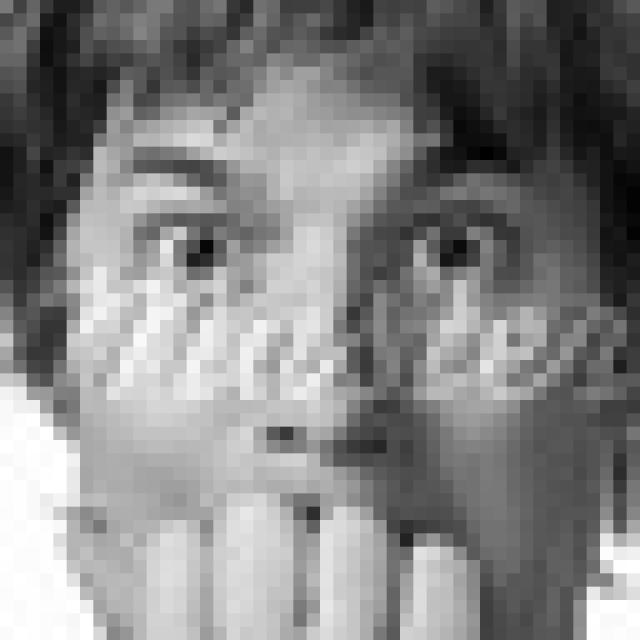fear: (107, 139, 554, 590)
